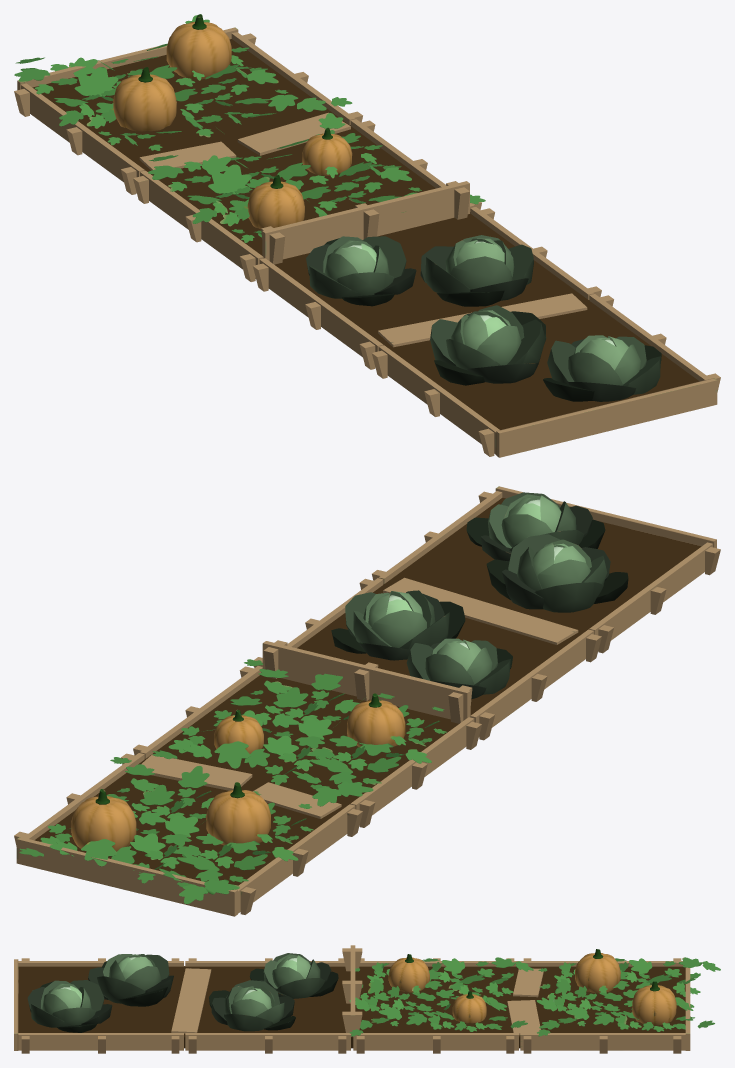
The model's file is groenten bak unity.fbx.
The picture shows the model from 3 angles, top to bottom: view 1: azimuth 30°, elevation 25°; view 2: azimuth 150°, elevation 25°; view 3: azimuth 270°, elevation 25°; orthographic projection. The views are drawn at different scales.
Parts seen in each view (by area): view 1: Icosphere.012; view 2: Icosphere.012; view 3: Icosphere.012.
Part boxes in pixels (x1,y1,x2,y2): Icosphere.012: (14,14,720,457); Icosphere.012: (14,486,720,916); Icosphere.012: (14,945,720,1053).
Size of the model in its own units: 588 by 193 by 2154.
